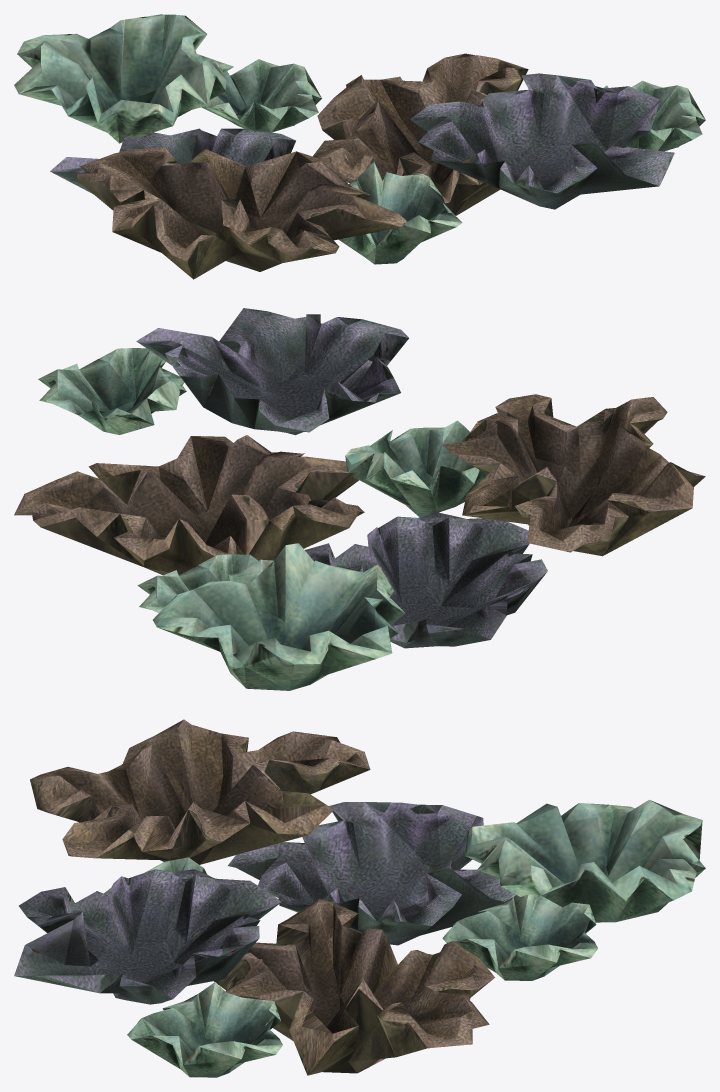
3 renders of one model, top to bottom at view 1: azimuth 30°, elevation 25°; view 2: azimuth 150°, elevation 25°; view 3: azimuth 270°, elevation 25°, orthographic. The views are drawn at different scales.
Visible parts, largest first — view 1: sc05; view 2: sc05; view 3: sc05.
Boxes of the visible parts, bbox=[...] form: sc05: bbox=[14, 14, 705, 279]; sc05: bbox=[14, 308, 705, 690]; sc05: bbox=[14, 719, 705, 1077].
Size of the model in its own units: 1692 by 420 by 1583.
